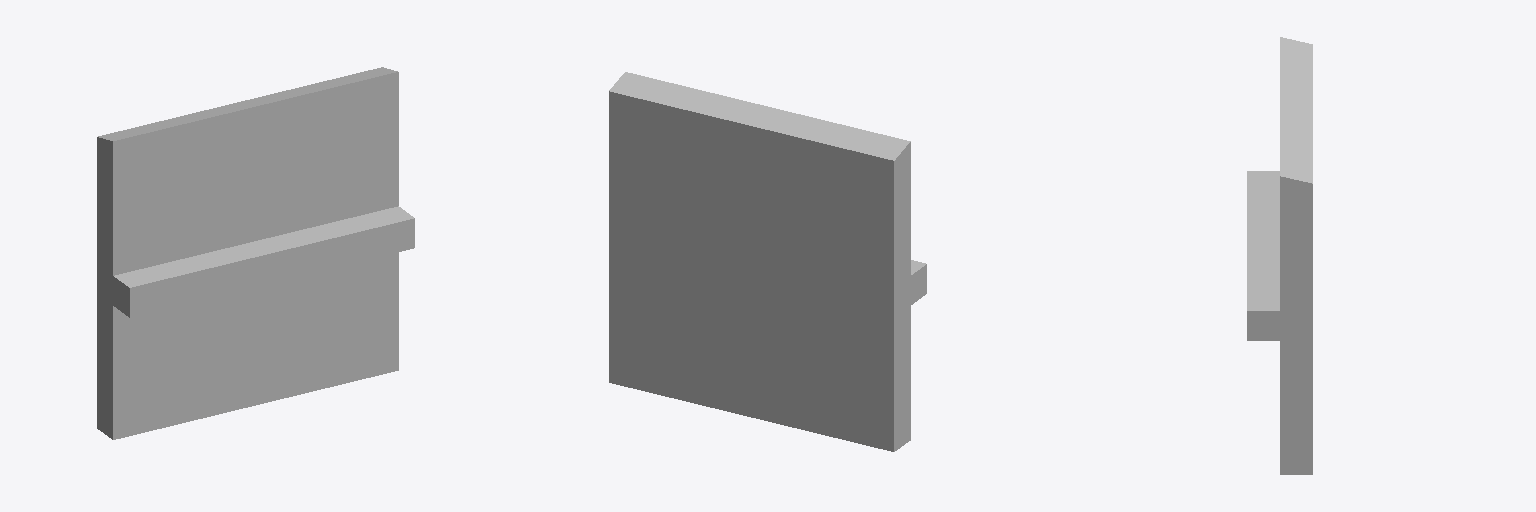
Rendered from wall.obj.
The picture shows the model from 3 angles: view 1: azimuth 30°, elevation 25°; view 2: azimuth 150°, elevation 25°; view 3: azimuth 270°, elevation 25°; orthographic projection.
Visible parts, largest first — view 1: Plane; view 2: Plane; view 3: Plane.
Boxes of the visible parts, x1=… form: Plane: x1=97, y1=67, x2=414, y2=439; Plane: x1=609, y1=72, x2=926, y2=451; Plane: x1=1247, y1=37, x2=1312, y2=474.
Bounding box in the file's own units: 2 × 2 × 0.4.